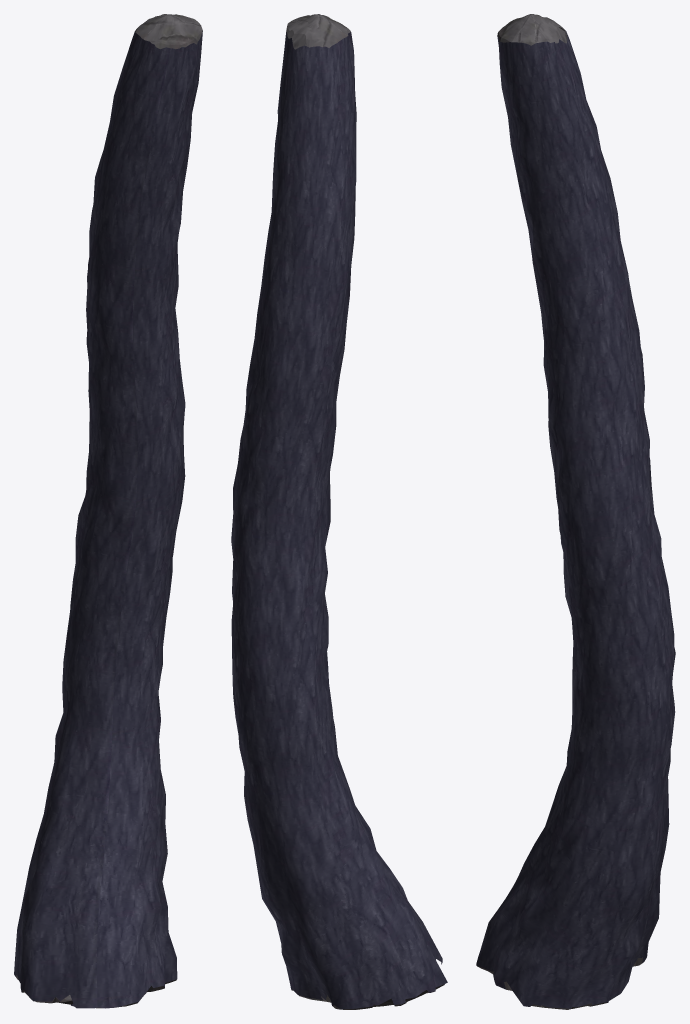
The picture shows the model from 3 angles, left to right: view 1: azimuth 30°, elevation 25°; view 2: azimuth 150°, elevation 25°; view 3: azimuth 270°, elevation 25°; orthographic projection. The views are drawn at different scales.
Parts seen in each view (by area): view 1: SM_Willow_02_full_LOD0; view 2: SM_Willow_02_full_LOD0; view 3: SM_Willow_02_full_LOD0.
Boxes of the visible parts, <box> form: SM_Willow_02_full_LOD0: <box>14,14,202,1008</box>; SM_Willow_02_full_LOD0: <box>231,14,447,1009</box>; SM_Willow_02_full_LOD0: <box>476,14,675,1009</box>.
Bounding box in the file's own units: 2 × 10.37 × 1.87.
Materials: 1 (1 with a texture image).
